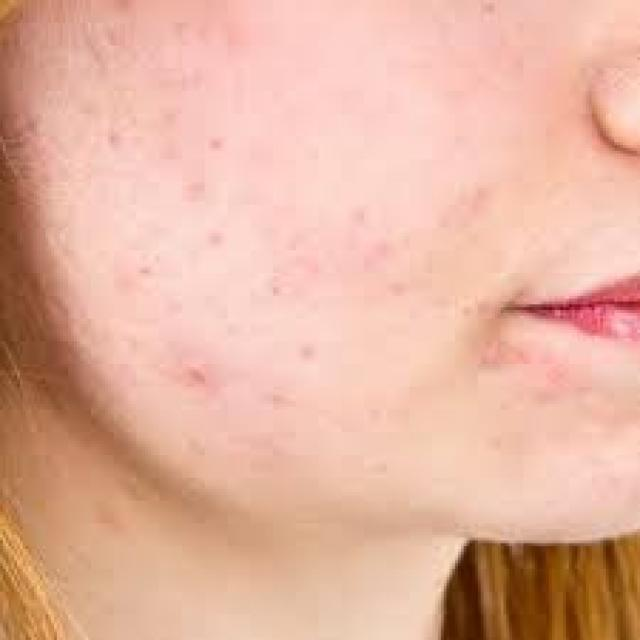burn: (179, 363, 219, 386)
